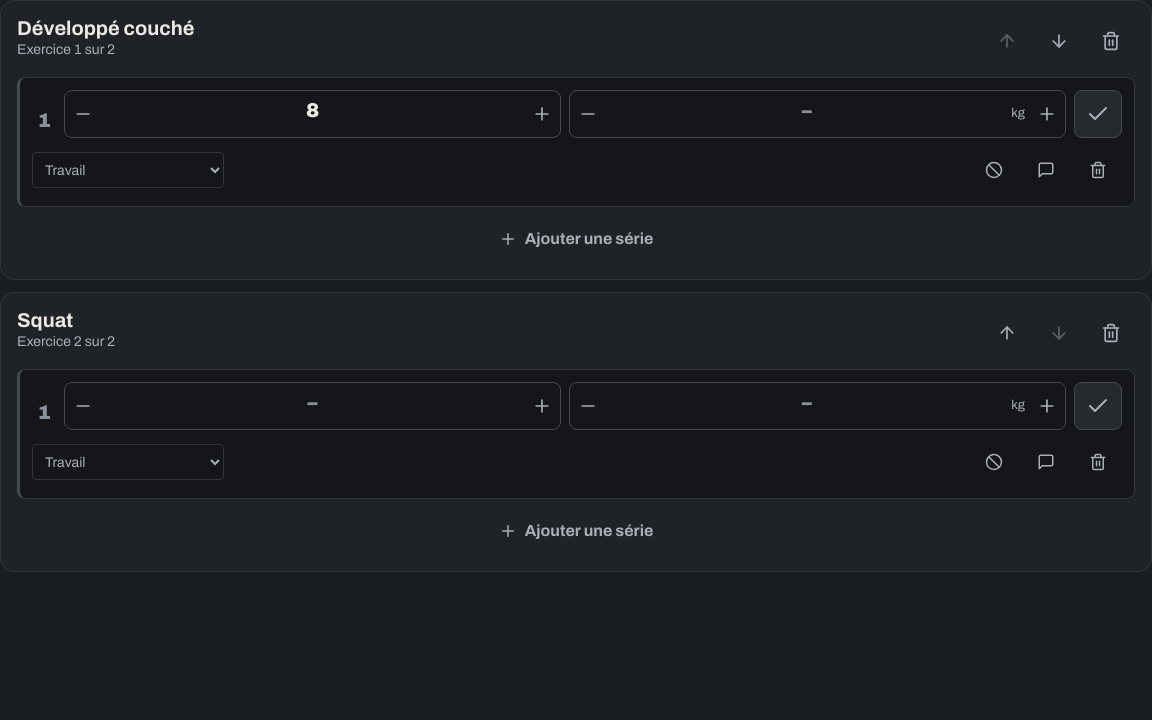
it: SessionExerciseList › demande confirmation pour une saisie non encore validée
Click the button named "Retirer Développé couché de la séance".
click(1111, 41)  # box [1087,17,1135,65]
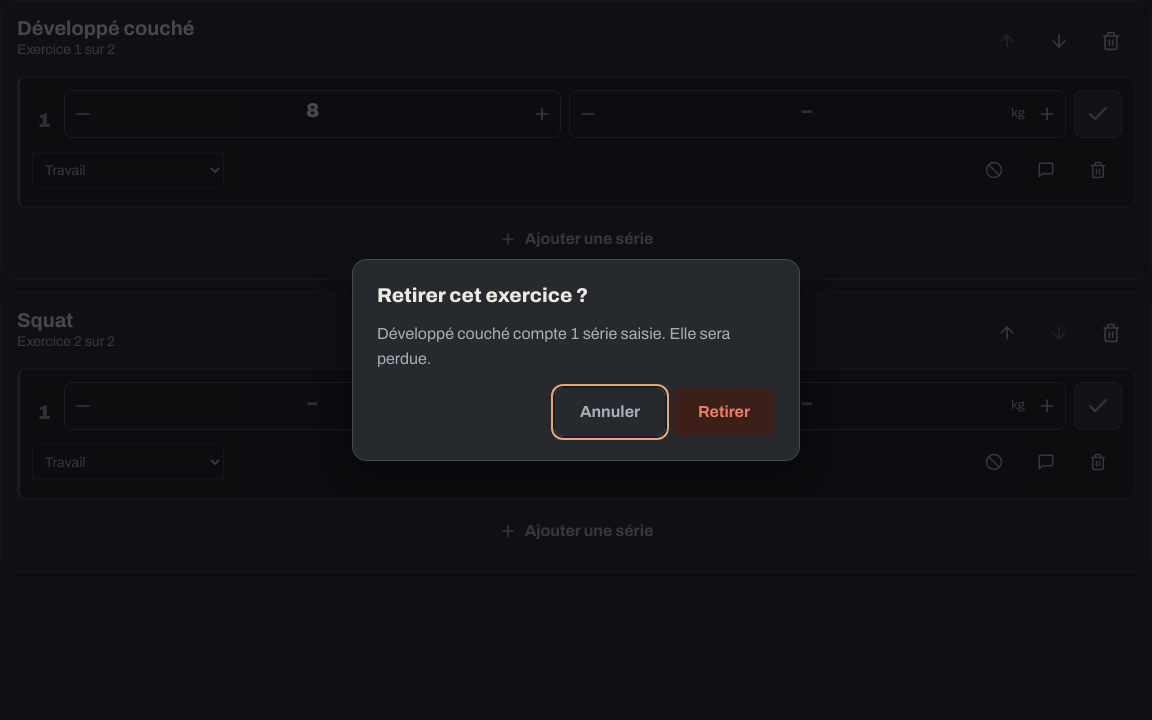
Now the dialog is shown, box [352,259,800,461]
Now the dialog shows "1 série saisie", box [377,325,730,367]
